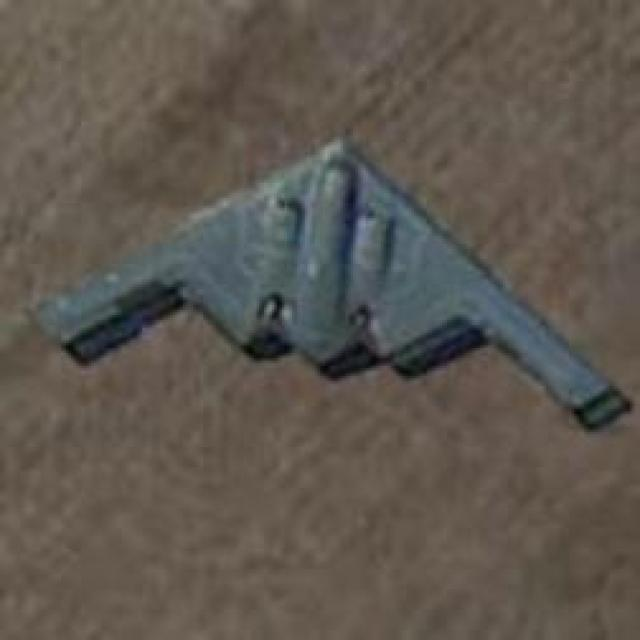B-2_TopDown: (28, 127, 635, 434)
